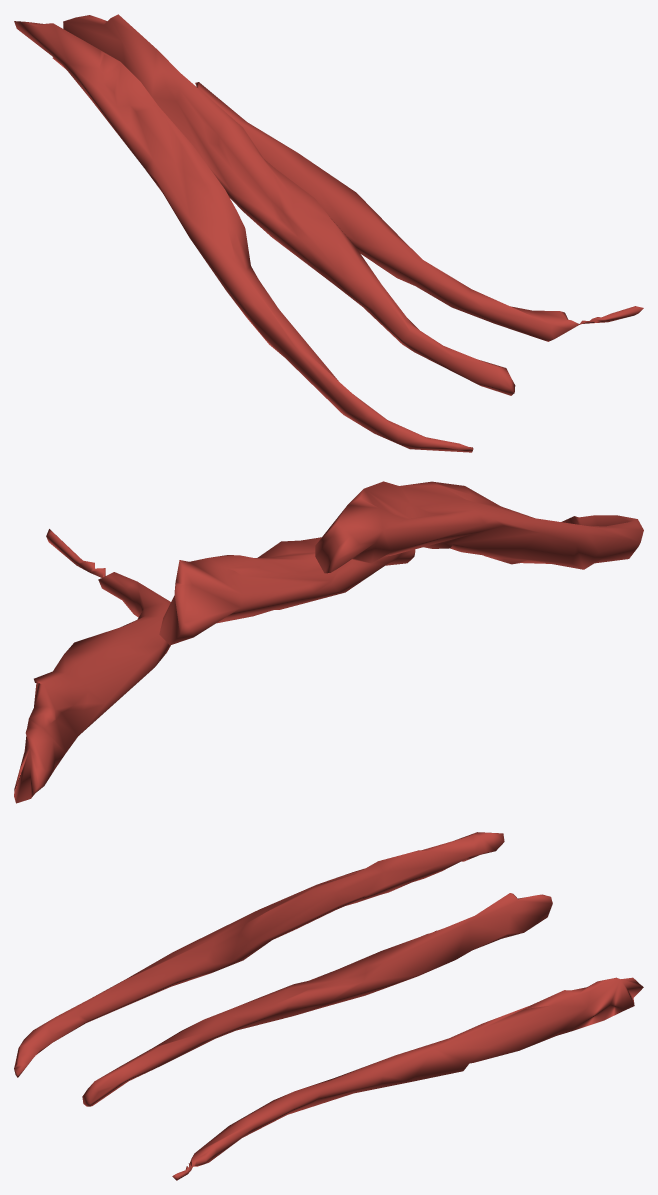
Rendered from musculos-plantar-interossei-muscles-l.glb.
3 views of the same model, one above another, from view 1: azimuth 30°, elevation 25°; view 2: azimuth 150°, elevation 25°; view 3: azimuth 270°, elevation 25° (orthographic). The views are drawn at different scales.
Visible parts, largest first — view 1: Plantar interossei muscles.l; view 2: Plantar interossei muscles.l; view 3: Plantar interossei muscles.l.
Boxes of the visible parts, x1,y1,x2,y2 form: Plantar interossei muscles.l: (14,14,643,452); Plantar interossei muscles.l: (14,481,643,803); Plantar interossei muscles.l: (14,832,643,1180).
Bounding box in the file's own units: 0.043 × 0.0263 × 0.0716.
